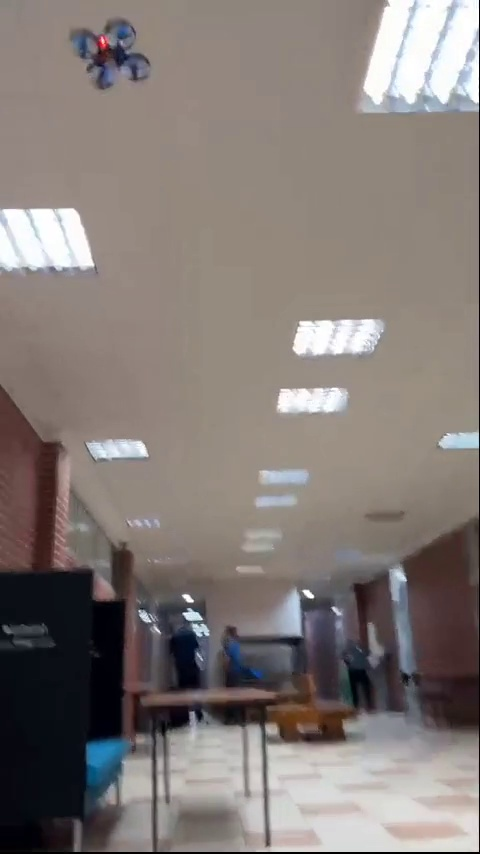drone: (69, 21, 152, 90)
no vest: (334, 622, 388, 718), (216, 619, 258, 722), (171, 613, 206, 727)
